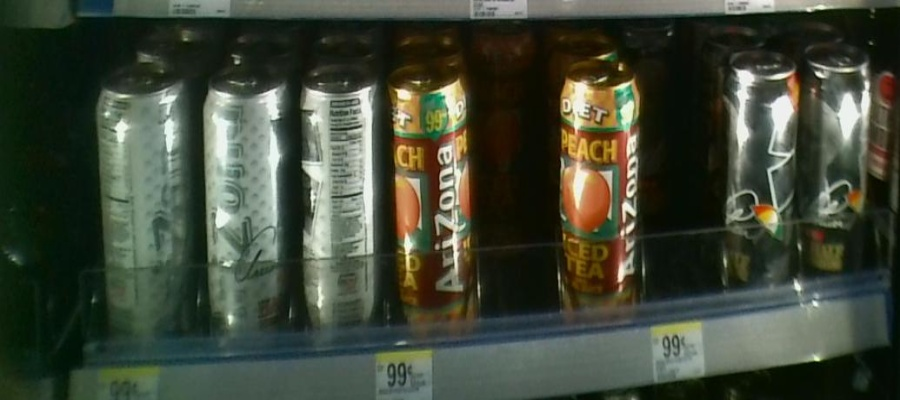bottle: (94, 45, 196, 346), (384, 50, 479, 347), (200, 52, 294, 352), (553, 59, 644, 319), (296, 43, 378, 331), (724, 39, 801, 300), (800, 36, 874, 290)
